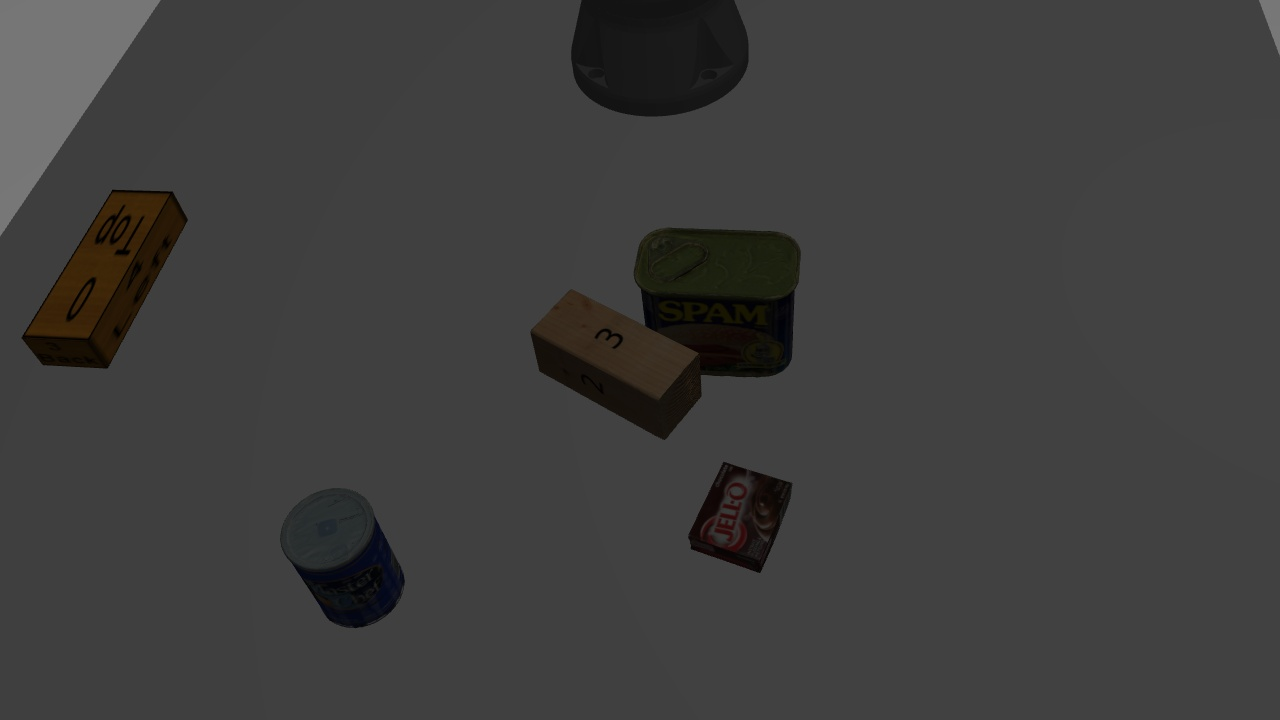jenga: (24, 181, 188, 375)
master_chef_can: (273, 485, 416, 632)
potted_meat_can: (634, 231, 801, 379)
pudding_box: (693, 463, 800, 573)
wood_block: (529, 288, 702, 433)
